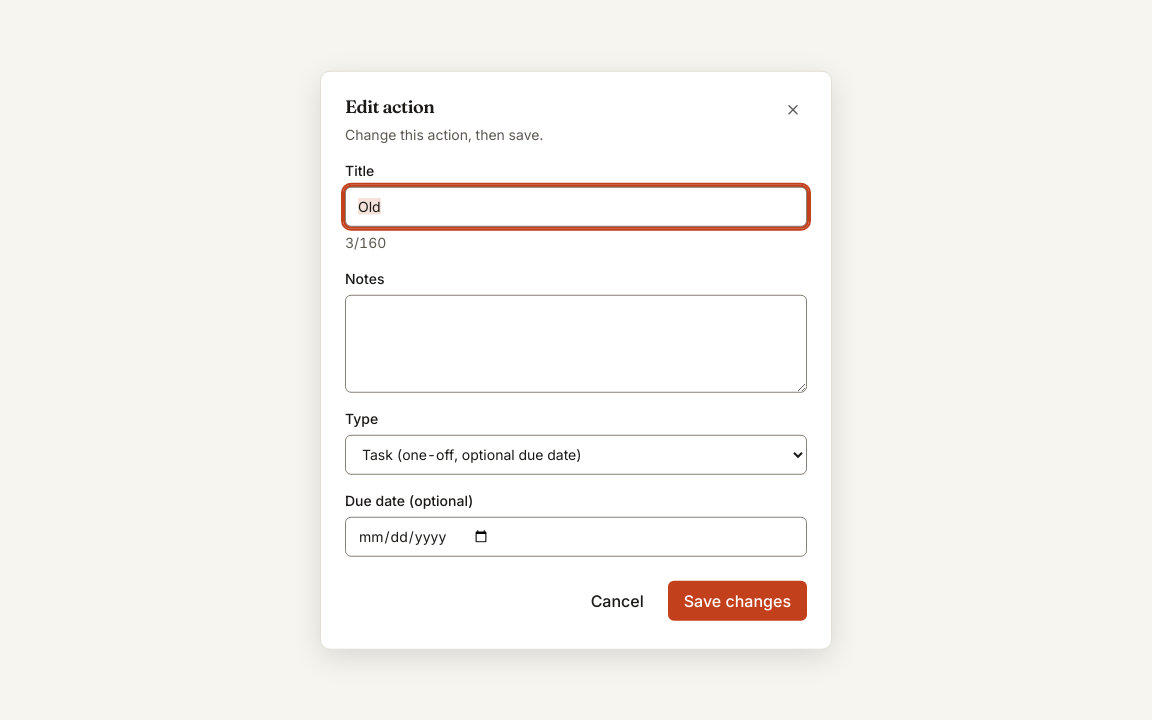
ActionEditorSheet › shows server field errors and message on failure, keeps input and stays open
The width and height of the screenshot is (1152, 720).
Replace the text in the field labelled "Title" with "New title": (576, 206) [345, 186, 807, 226]
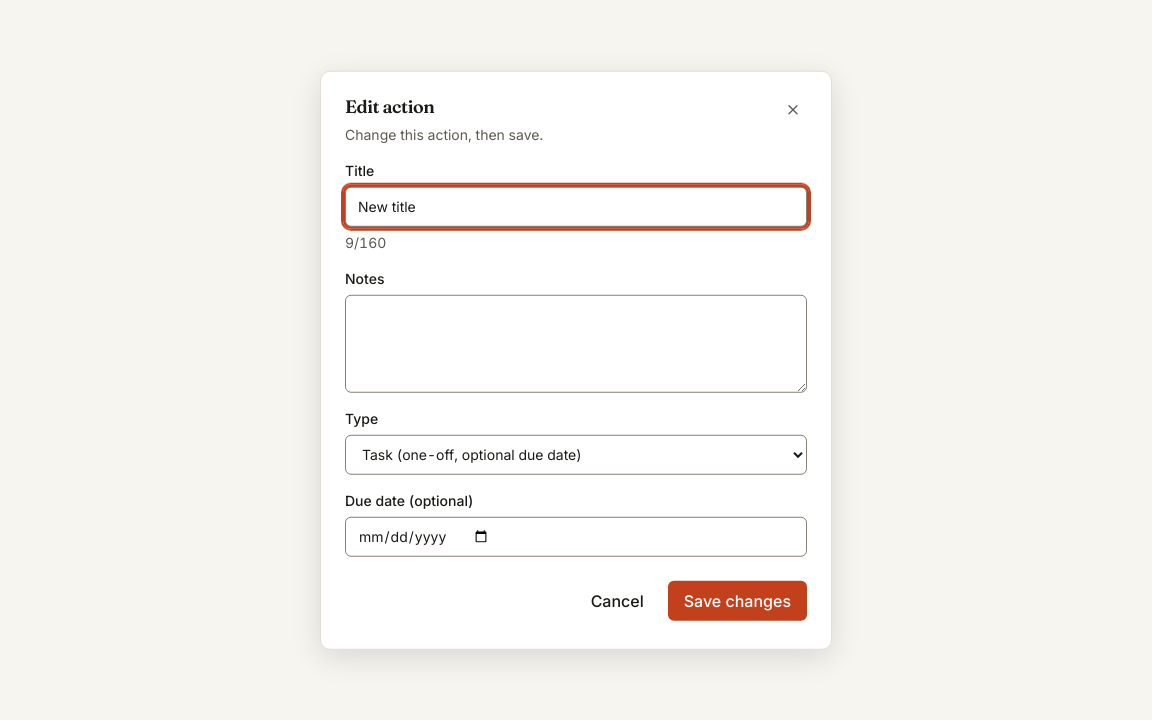
Click the button "Save changes": click(737, 600) [668, 580, 807, 620]
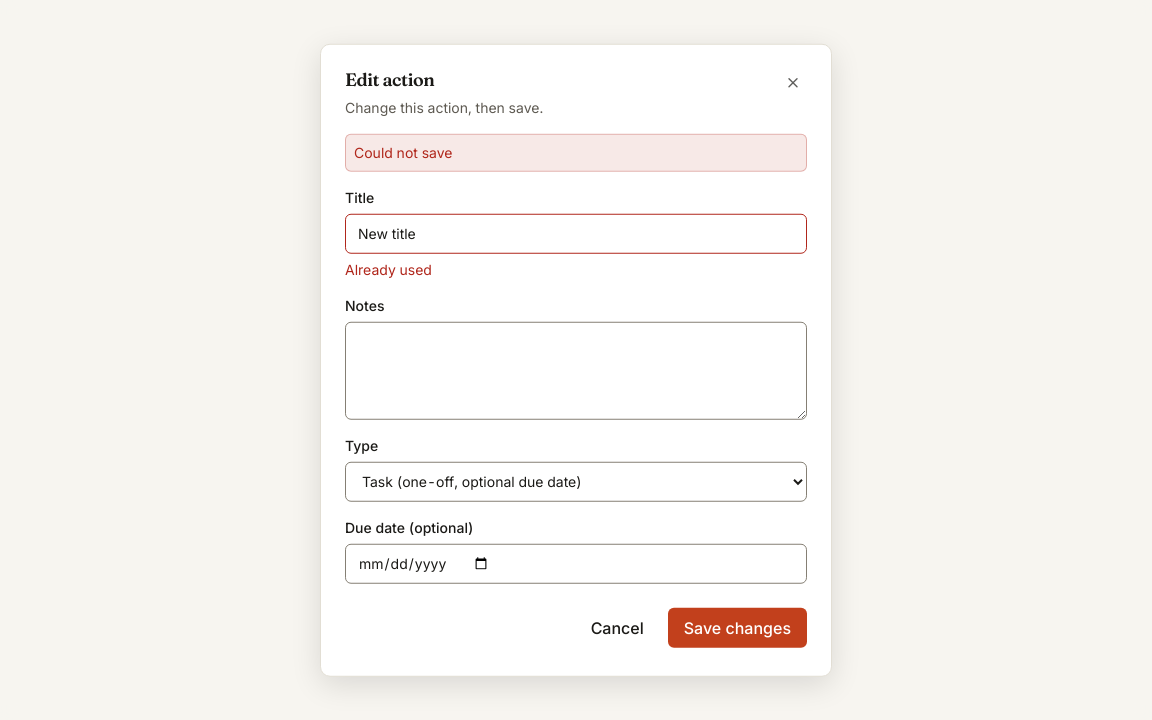
Expected: the button "Save changes" is enabled, [668, 607, 807, 647]
Expected: the text "Already used" is shown, [345, 260, 432, 277]
Expected: the message reads "Could not save", [354, 143, 452, 160]
